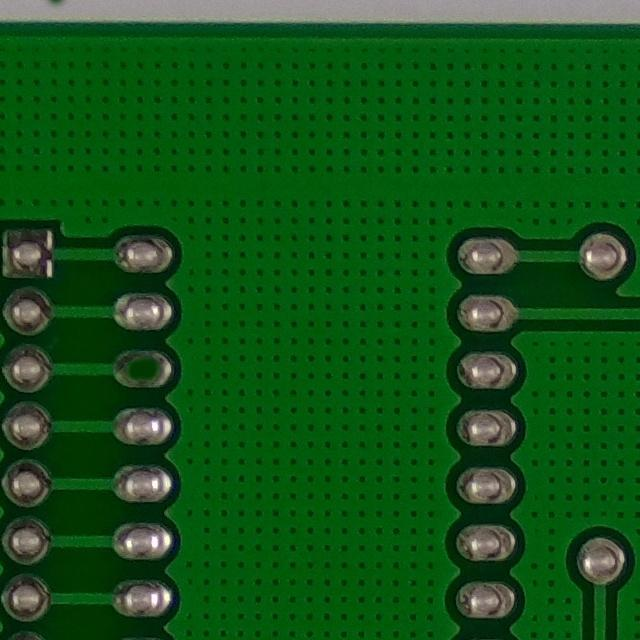missing_hole: (117, 340, 173, 394)
